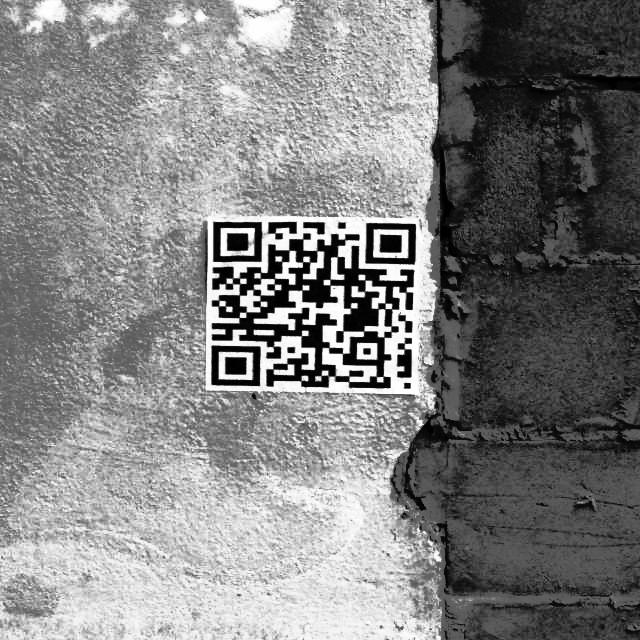qr_code: (212, 222, 416, 388)
